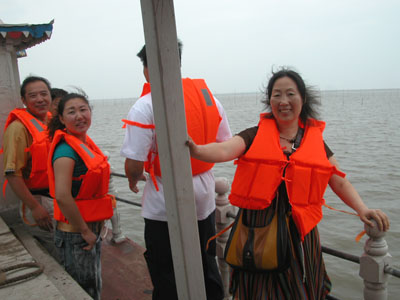reflective_clothes: (227, 106, 334, 236), (132, 75, 225, 183), (50, 125, 112, 223), (2, 103, 55, 196)
